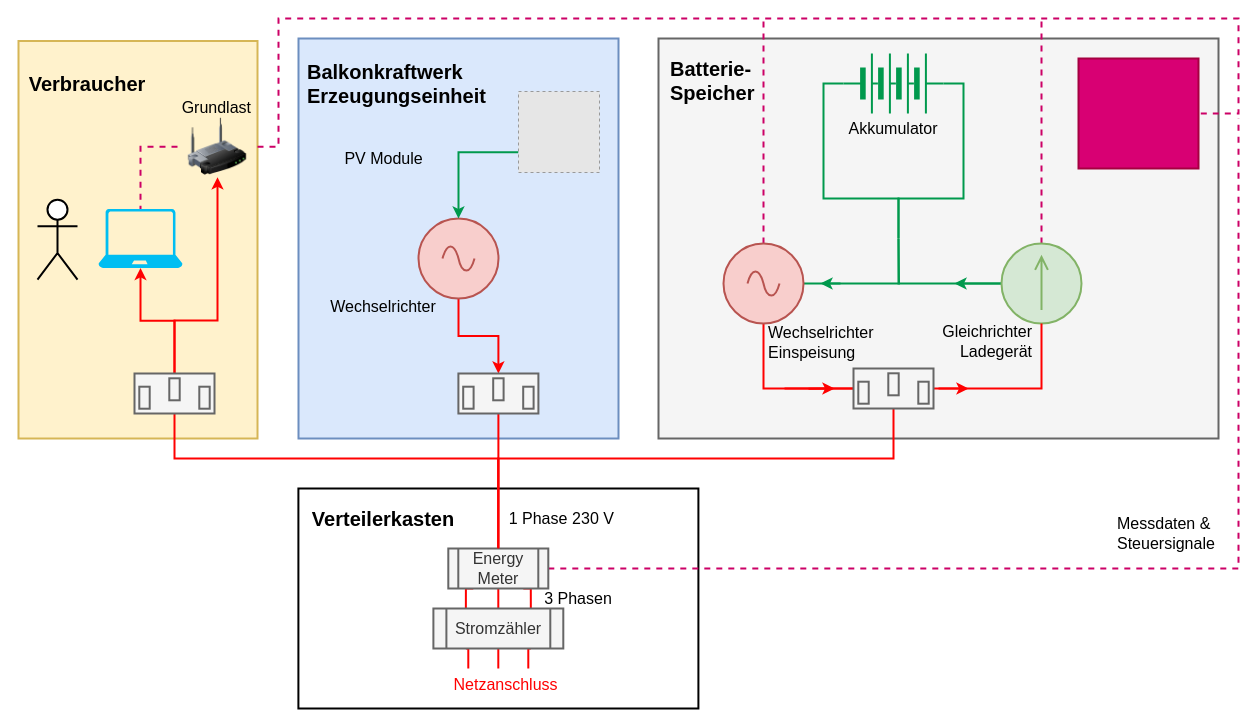
Some shapes in this 1257 by 726 pixel diagram are drawn without their labels. Grey dashed boxes stand in for pictures. The centre of each missing label's shape, as x and y in pixels:
"GUI" belongs at point 140,238.
"Intelligente Steuerung" belongs at point 1138,113.
